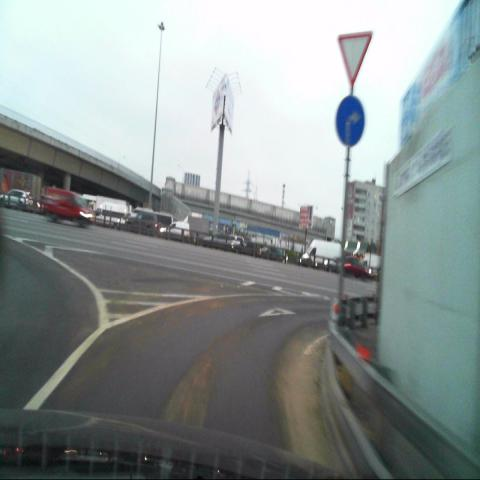4_1_2: (336, 95, 364, 146)
